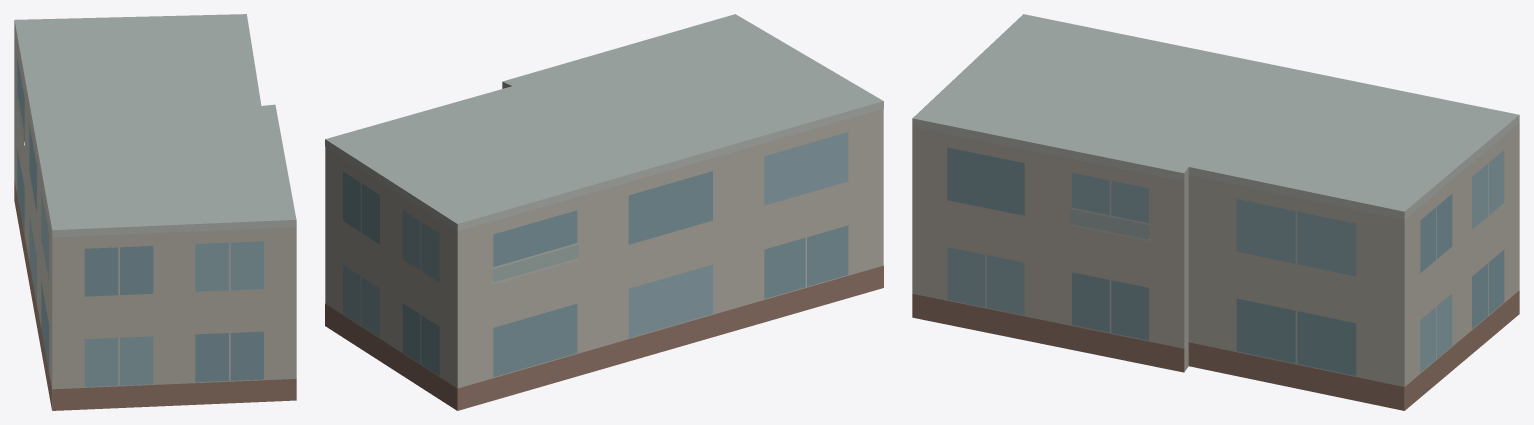
The model's file is survey-upis-32478240.glb.
The picture shows the model from 3 angles, left to right: view 1: azimuth 30°, elevation 25°; view 2: azimuth 150°, elevation 25°; view 3: azimuth 270°, elevation 25°; orthographic projection. The views are drawn at different scales.
Parts seen in each view (by area): view 1: survey-upis-32478240.tmp; view 2: survey-upis-32478240.tmp; view 3: survey-upis-32478240.tmp.
Part boxes in pixels (x1,y1,x2,y2): survey-upis-32478240.tmp: [14, 14, 296, 410]; survey-upis-32478240.tmp: [325, 14, 883, 410]; survey-upis-32478240.tmp: [912, 14, 1519, 410].
Bounding box in the file's own units: 12.99 × 6.1 × 16.86.
